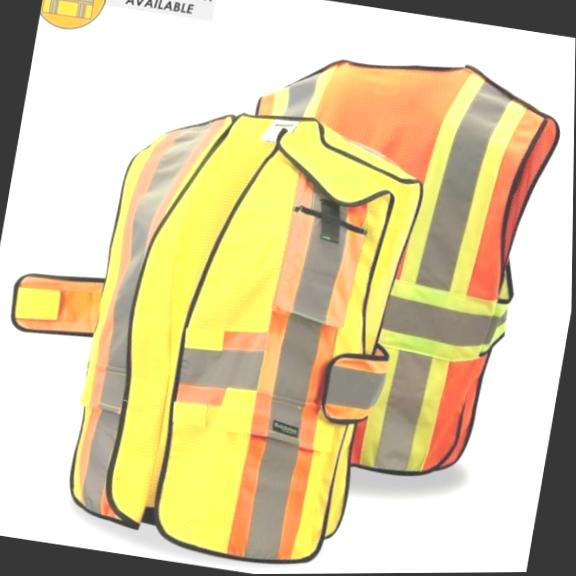safety_vest: (53, 82, 440, 576), (193, 32, 572, 498)
